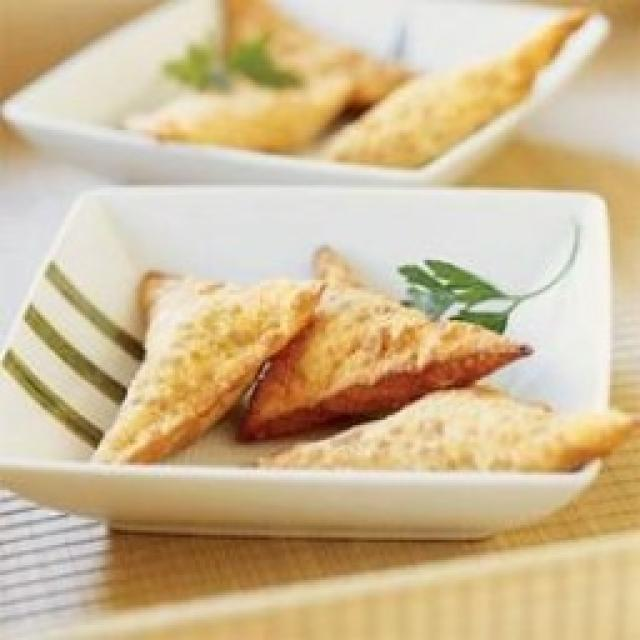Brik: (95, 246, 631, 471), (136, 0, 588, 168)
